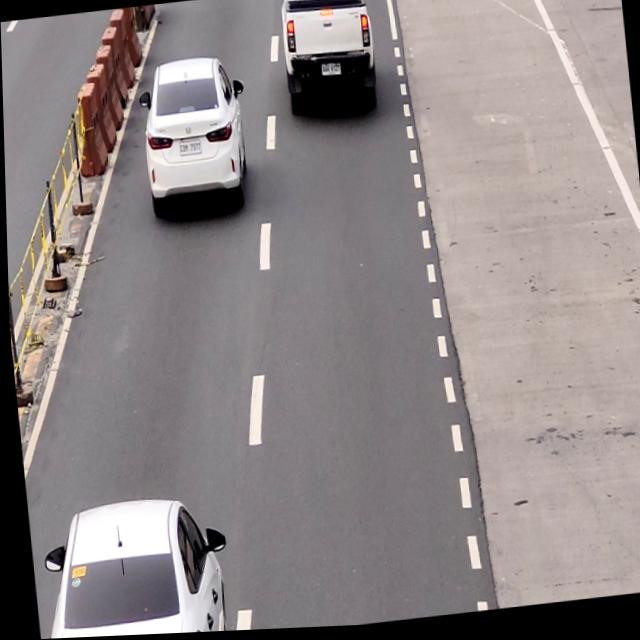Car: (23, 485, 224, 640), (136, 58, 251, 222), (280, 0, 378, 118)
License-Plate: (318, 60, 344, 83), (175, 138, 202, 158)
